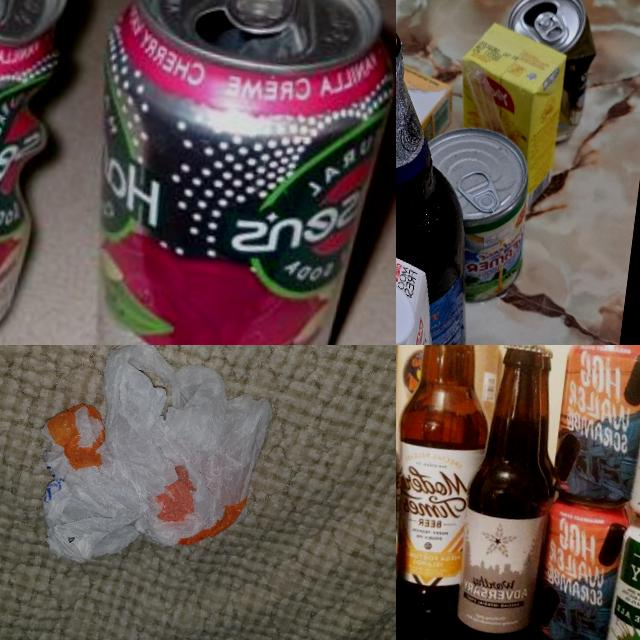aba de lata: (219, 0, 303, 37), (458, 160, 504, 214), (532, 5, 569, 42)
caixinha: (450, 18, 576, 205), (396, 49, 456, 220)
garrafa de vidro: (449, 345, 568, 640), (396, 15, 501, 345), (396, 345, 505, 621)
lata: (61, 0, 396, 345), (407, 117, 533, 307), (491, 0, 598, 144), (548, 345, 640, 507)
sacola plástica: (27, 345, 277, 586)
tampa plástica: (396, 274, 422, 345)
